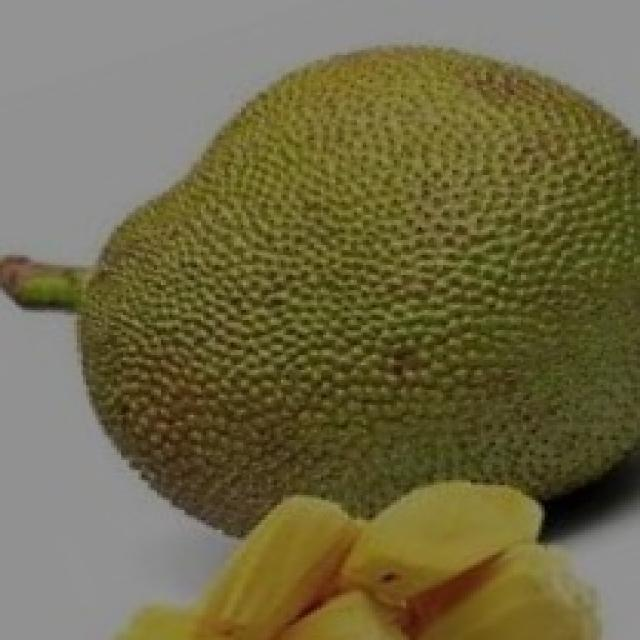Fruit: (212, 15, 640, 303)
